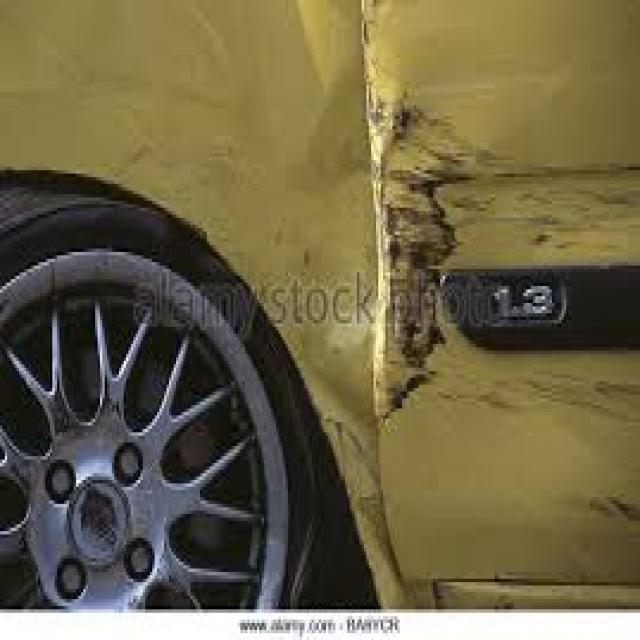minor: (304, 62, 490, 507)
